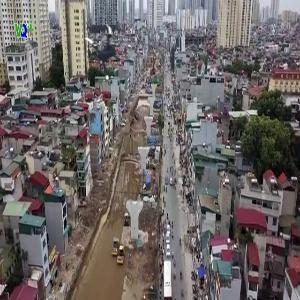drone: (73, 23, 132, 82)
